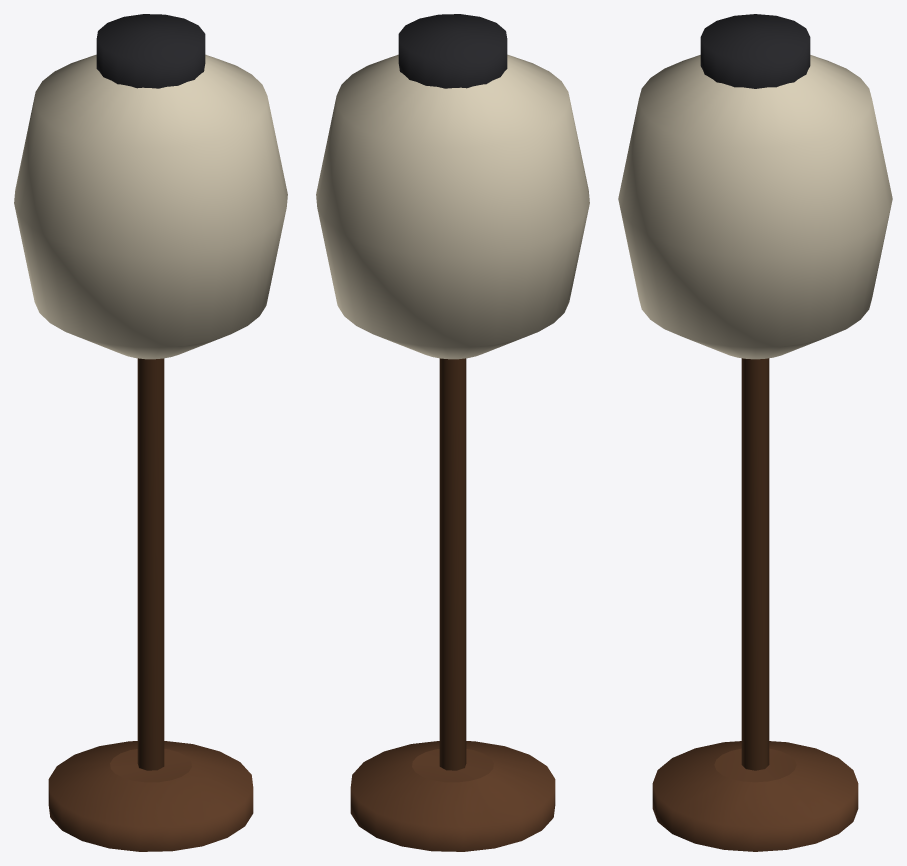
The model's file is furn_paper_lantern.glb.
The picture shows the model from 3 angles, left to right: view 1: azimuth 30°, elevation 25°; view 2: azimuth 150°, elevation 25°; view 3: azimuth 270°, elevation 25°; orthographic projection.
Parts seen in each view (by area): view 1: furn_paper_lantern_main; view 2: furn_paper_lantern_main; view 3: furn_paper_lantern_main.
Part boxes in pixels (left/top/right/bottom): furn_paper_lantern_main: left=14, top=14, right=287, bottom=851; furn_paper_lantern_main: left=316, top=14, right=589, bottom=851; furn_paper_lantern_main: left=618, top=14, right=892, bottom=851.
Size of the model in its own units: 0.4 by 1.25 by 0.4.
